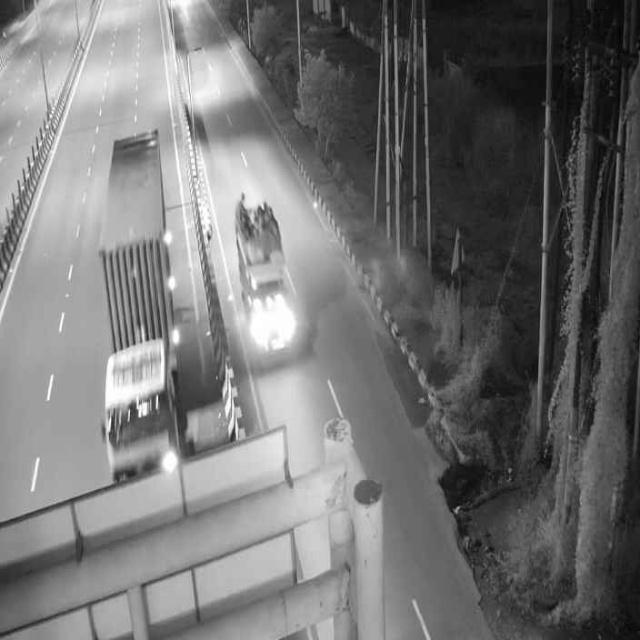car: (229, 187, 300, 360)
